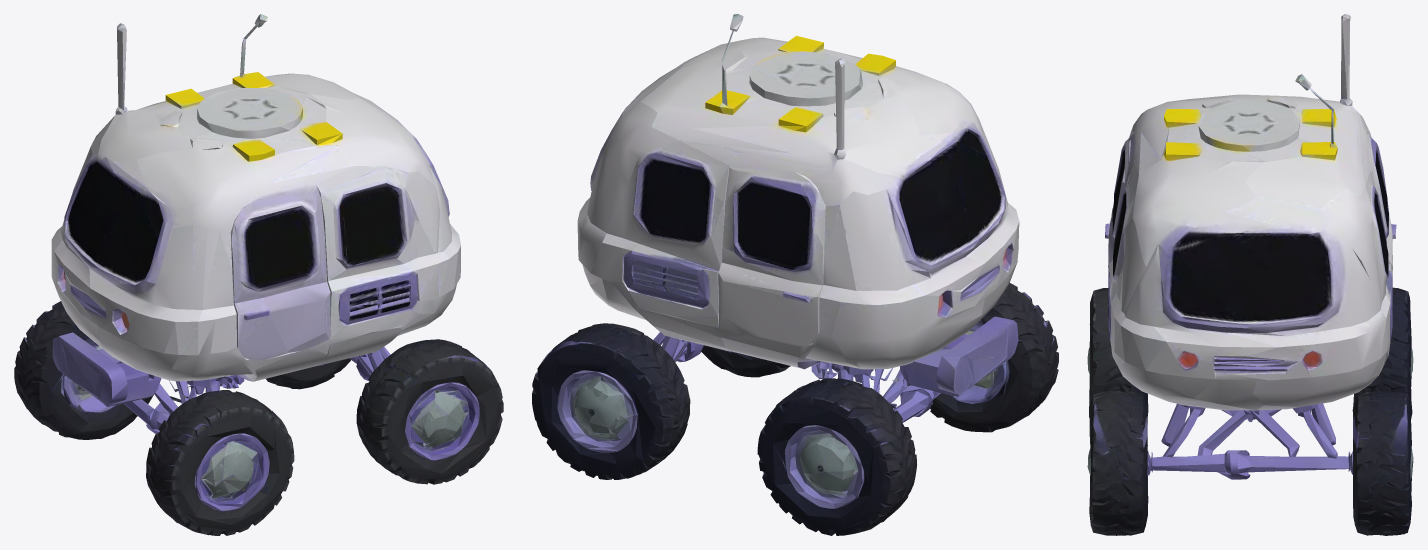
The model's file is rover.gltf.
3 renders of one model, left to right at view 1: azimuth 30°, elevation 25°; view 2: azimuth 150°, elevation 25°; view 3: azimuth 270°, elevation 25°, orthographic. The views are drawn at different scales.
Size of the model in its own units: 1.66 by 1.9 by 1.34.
1 material, 1 textured.
